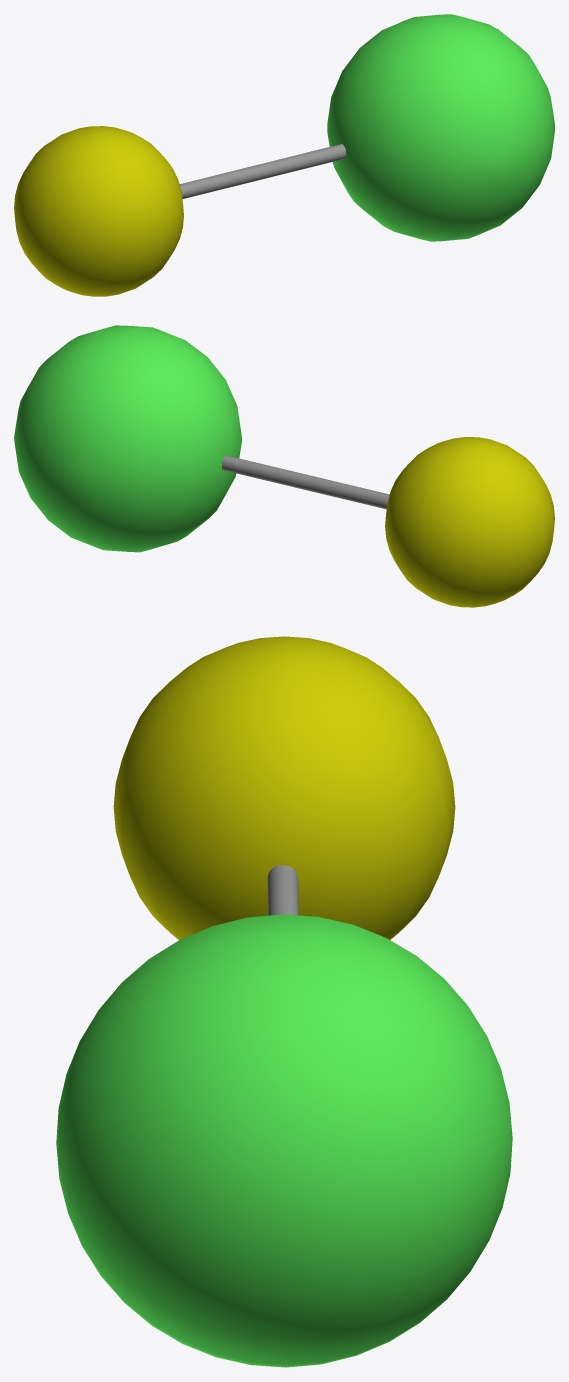
Rendered from CaS.fbx.
3 views of the same model, one above another, from view 1: azimuth 30°, elevation 25°; view 2: azimuth 150°, elevation 25°; view 3: azimuth 270°, elevation 25° (orthographic). The views are drawn at different scales.
Visible parts, largest first — view 1: CaS; view 2: CaS; view 3: CaS.
Boxes of the visible parts, bbox=[...] form: CaS: bbox=[14, 14, 554, 296]; CaS: bbox=[14, 325, 554, 607]; CaS: bbox=[56, 636, 512, 1367].
Size of the model in its own units: 6.96 by 2.67 by 2.67.
